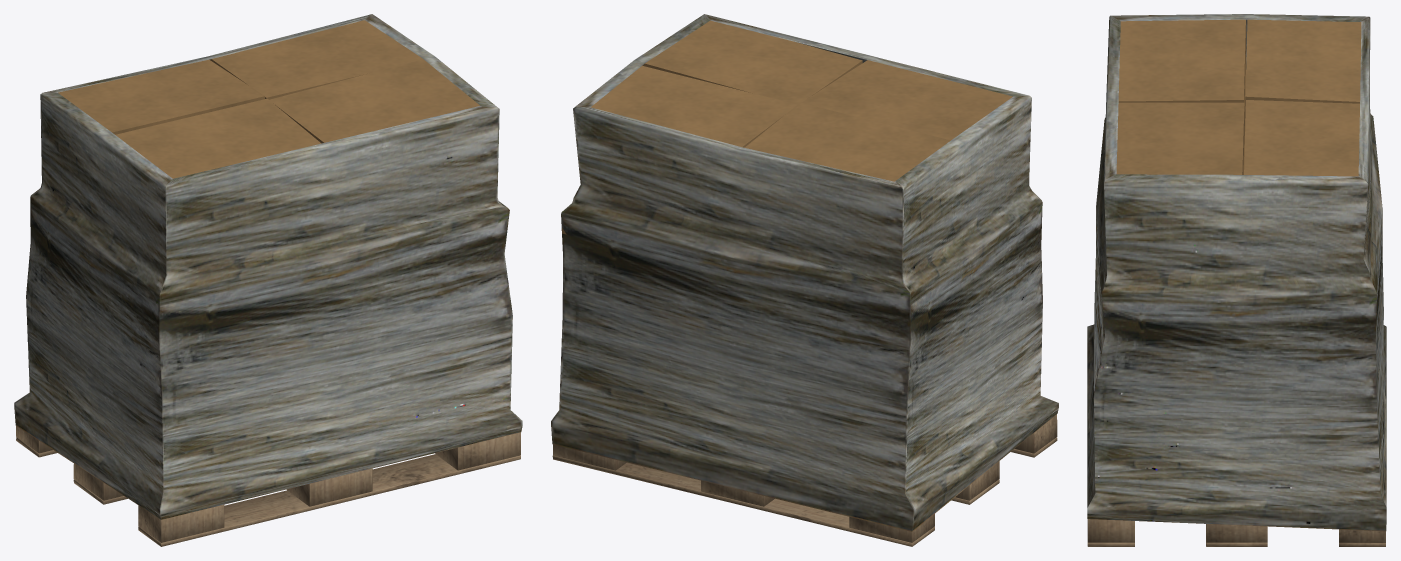
Rendered from PalletStack.fbx.
3 renders of one model, left to right at view 1: azimuth 30°, elevation 25°; view 2: azimuth 150°, elevation 25°; view 3: azimuth 270°, elevation 25°, orthographic. The views are drawn at different scales.
Parts seen in each view (by area): view 1: Foil_LOD0, Pallet_LOD0; view 2: Foil_LOD0, Pallet_LOD0; view 3: Foil_LOD0, Pallet_LOD0.
Part boxes in pixels (box(x1,y1,x2,y2)): Foil_LOD0: box(14, 14, 522, 519); Pallet_LOD0: box(16, 20, 520, 546); Foil_LOD0: box(551, 14, 1058, 531); Pallet_LOD0: box(552, 20, 1057, 546); Foil_LOD0: box(1087, 14, 1386, 531); Pallet_LOD0: box(1087, 19, 1385, 546).
Size of what is drawn, in the model's own units: 111 by 103 by 77.31.
